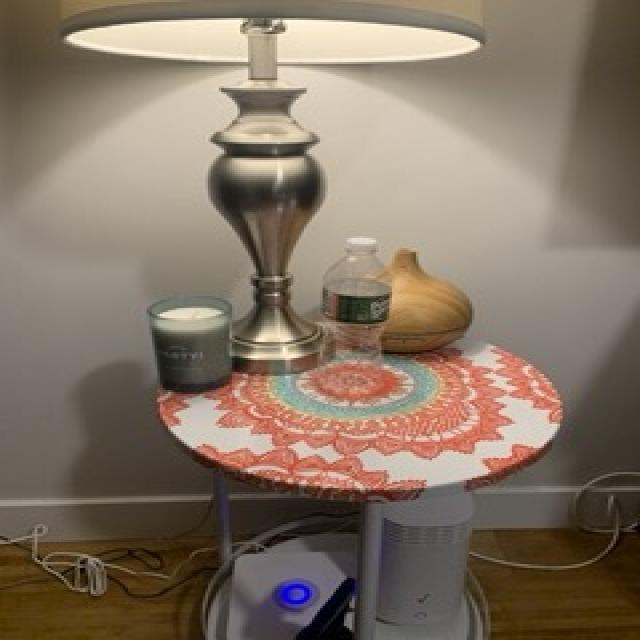water_bottle: (317, 236, 390, 397)
